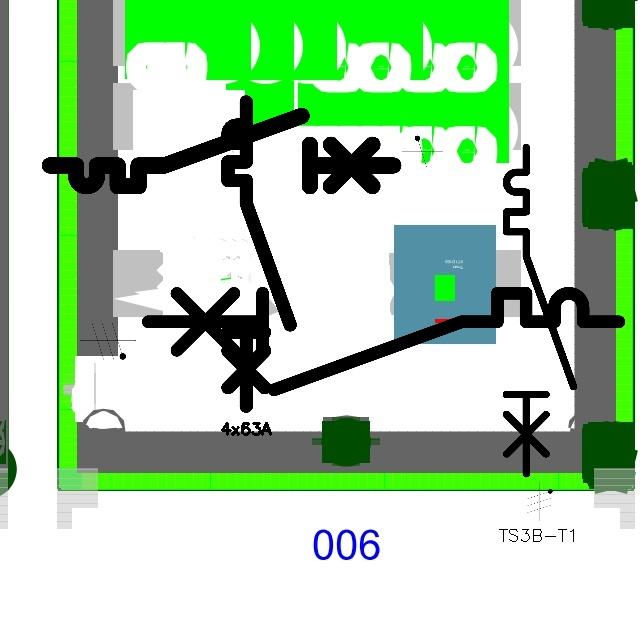interruptor_termomagnetico: (135, 281, 630, 402), (41, 107, 402, 195), (498, 139, 582, 482), (220, 94, 298, 414)
